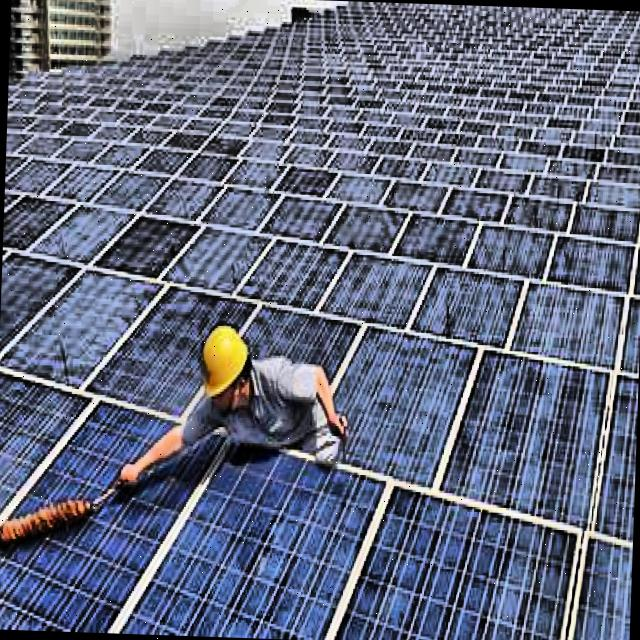helmet: (193, 315, 260, 413)
